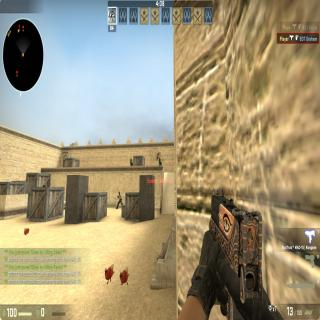CT-Body: (129, 157, 133, 166), (158, 157, 162, 165)
CT-Head: (130, 157, 132, 161), (159, 158, 161, 160)
T-Body: (116, 191, 123, 209)
T-Head: (118, 190, 120, 194)
